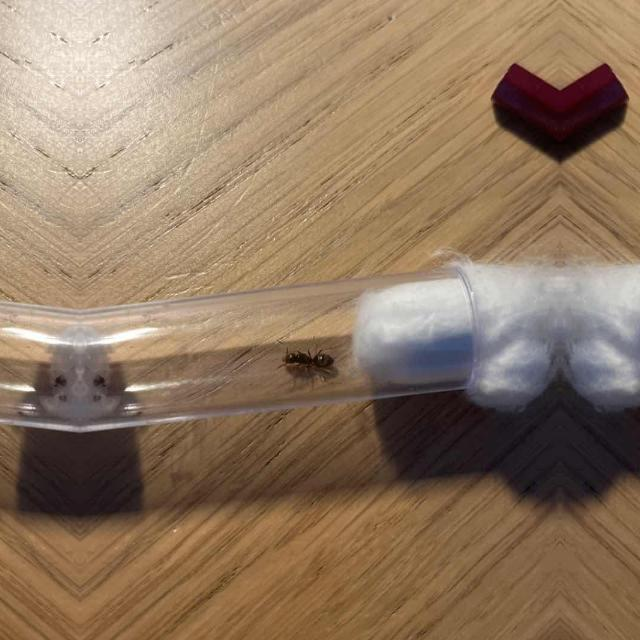Lasius: (274, 341, 336, 377)
